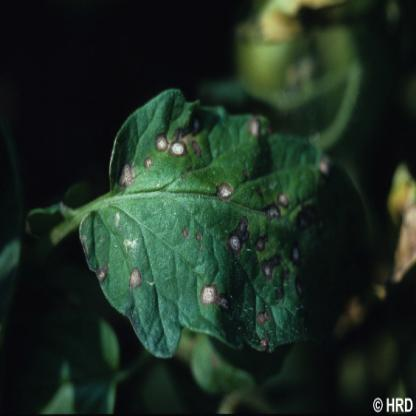Tomato Septoria leaf spot: (48, 90, 386, 382)
